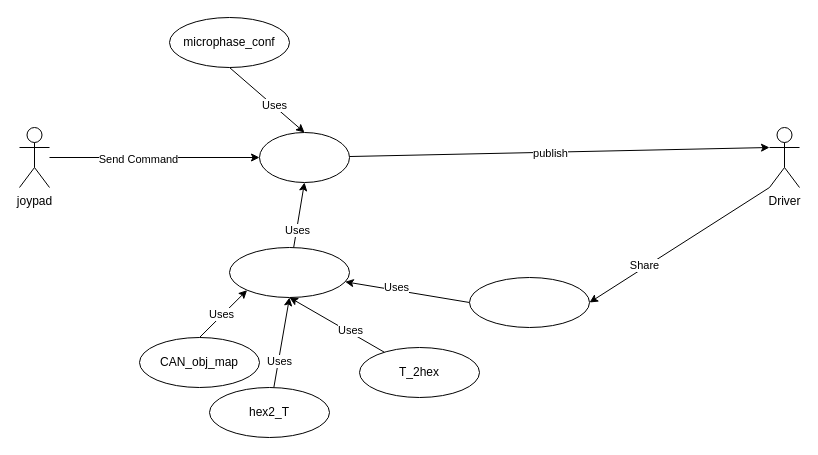
This 818x455 diagram has some shape labels left out. The centre of each missing label's shape, as x and y in pixels:
"read_feedback" goes at (529,302).
"teleop2CAN" goes at (304,157).
"waveshare_interface" goes at (289,272).
